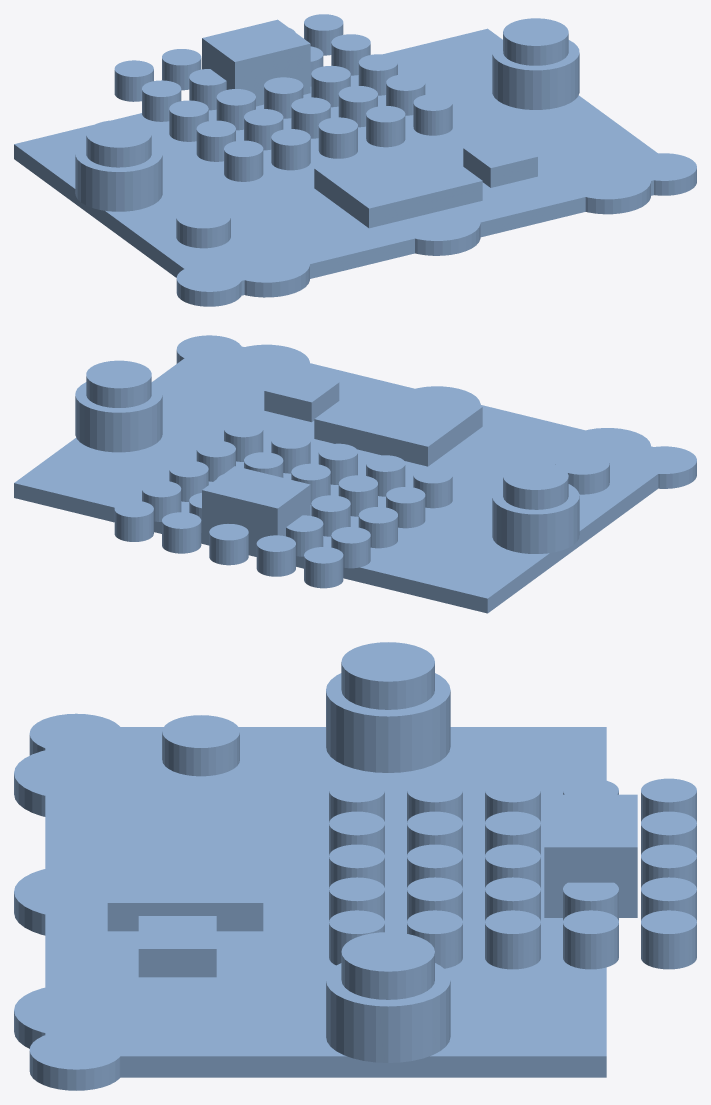
The model's file is microbit.glb.
The picture shows the model from 3 angles, top to bottom: view 1: azimuth 30°, elevation 25°; view 2: azimuth 150°, elevation 25°; view 3: azimuth 270°, elevation 25°; orthographic projection. The views are drawn at different scales.
Visible parts, largest first — view 1: microbit; view 2: microbit; view 3: microbit.
Part boxes in pixels (x1,y1,x2,y2): microbit: [14, 14, 696, 306]; microbit: [14, 335, 696, 613]; microbit: [14, 642, 696, 1090].
Bounding box in the file's own units: 54 × 7.5 × 43.8.
